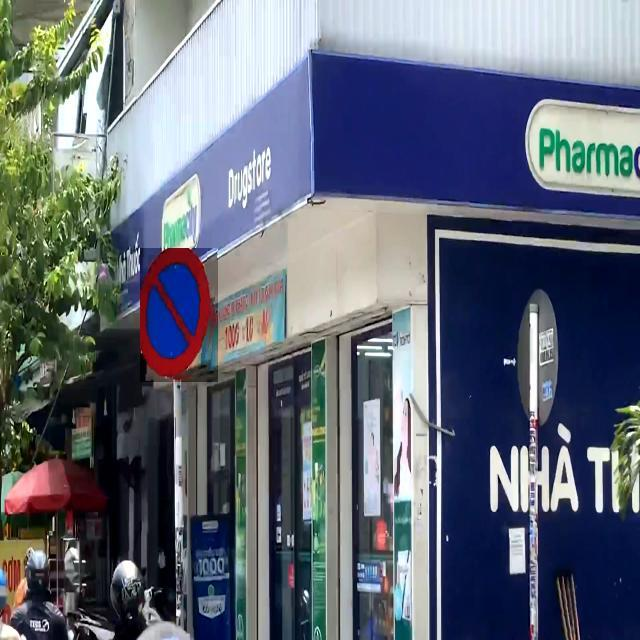P-131a: (140, 248, 218, 382)
